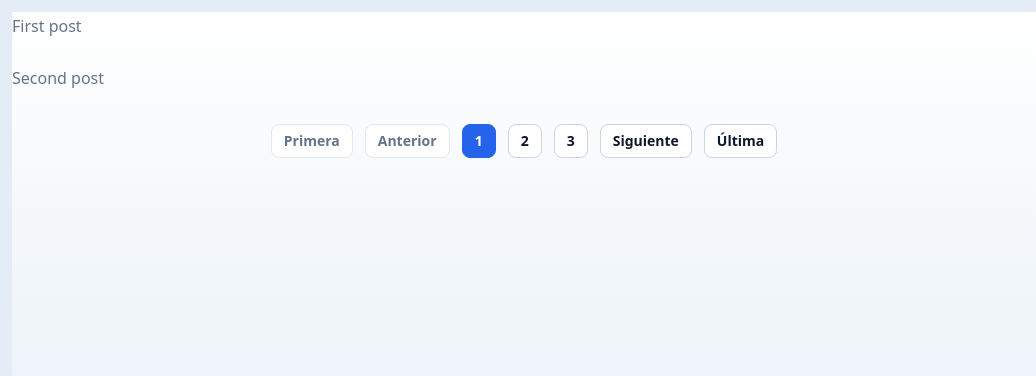
RuntimePage › renders numbered repeater pagination and selects concrete pages
Check: the button "Primera" is disabled, box [271,124,353,158]
Check: the button "Anterior" is disabled, box [365,124,450,158]
Click the button "2" at (525, 141), box [508,124,542,158]
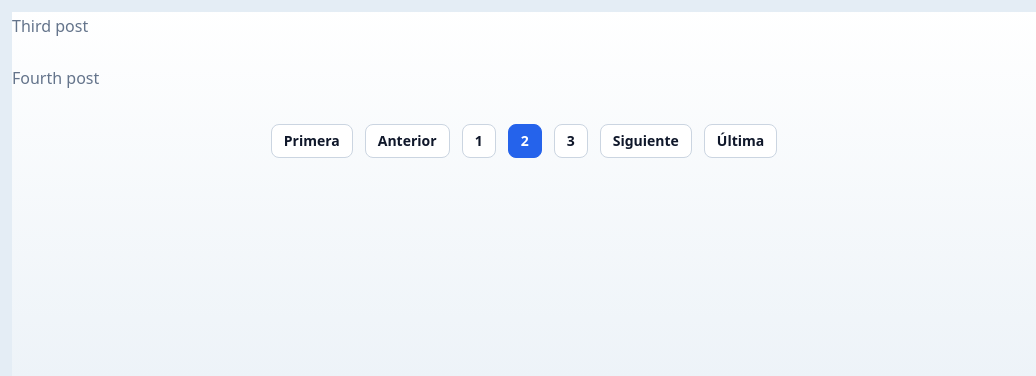
Check: the button "2" is marked as current, box [508,124,542,158]
Click the button "Última" at (740, 141), box [704,124,777,158]
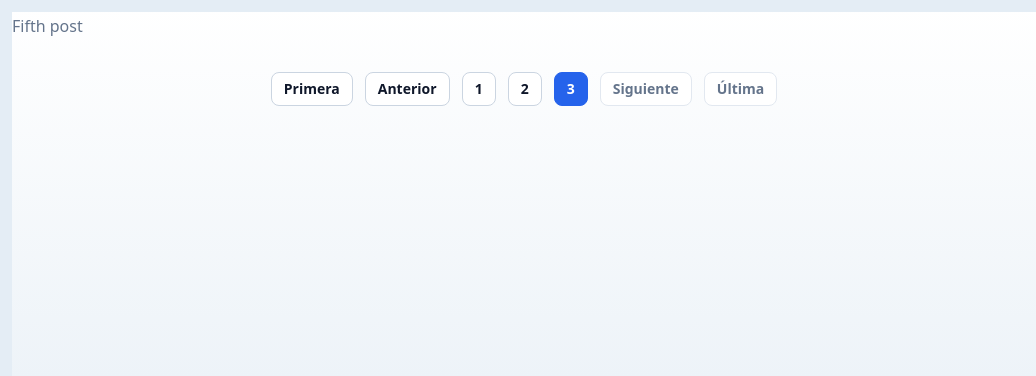
Check: the button "Siguiente" is disabled, box [600,72,692,106]
Check: the button "Última" is disabled, box [704,72,777,106]
Check: the text "Fifth post" is shown, box [12,15,83,37]
